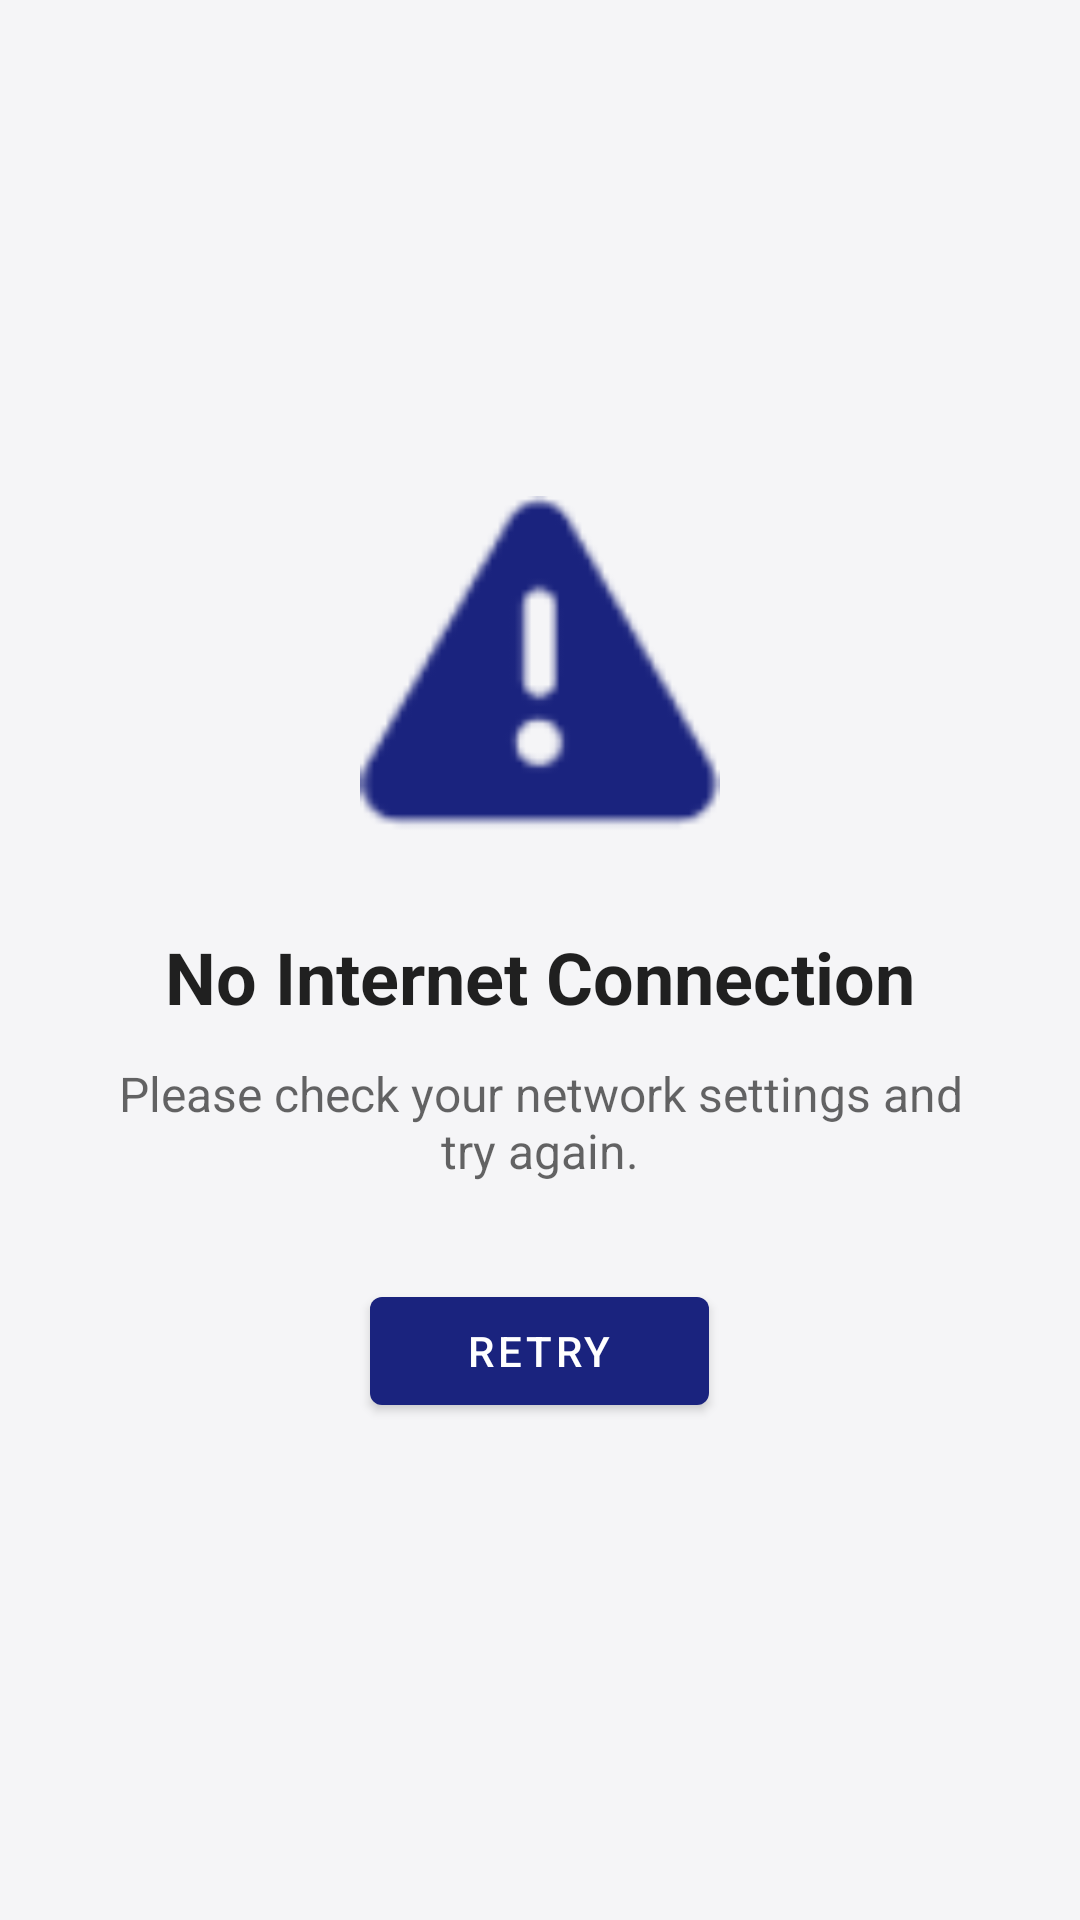

Icons on this 1080*1920 Android screen, each with its box as {"left": x1, "top": y1, "right": x2, "bottom": y2}:
alert: {"left": 360, "top": 496, "right": 720, "bottom": 825}
